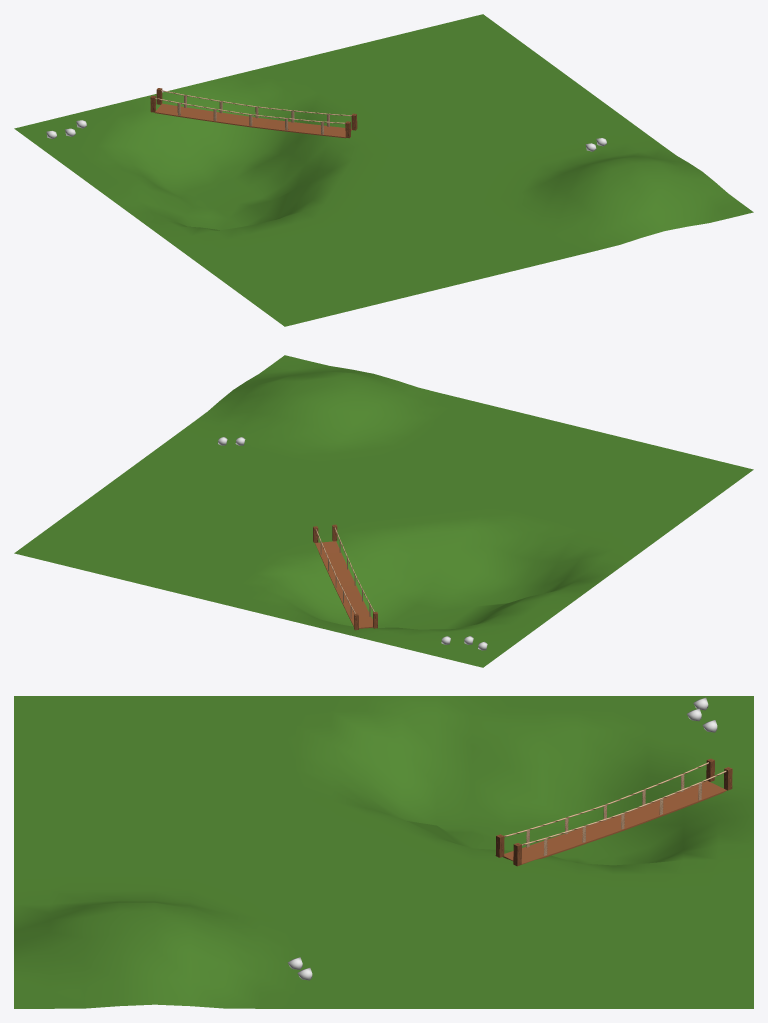
Rendered from start-park-terrain.fbx.
The picture shows the model from 3 angles, top to bottom: view 1: azimuth 30°, elevation 25°; view 2: azimuth 150°, elevation 25°; view 3: azimuth 270°, elevation 25°; orthographic projection. The views are drawn at different scales.
Visible parts, largest first — view 1: Plane.001, Floor; view 2: Plane.001, Floor; view 3: Plane.001, Floor.
Part boxes in pixels (x1=…): Plane.001: x1=14, y1=14, x2=753, y2=326; Floor: x1=155, y1=103, x2=351, y2=138; Plane.001: x1=14, y1=355, x2=753, y2=667; Floor: x1=315, y1=541, x2=373, y2=628; Plane.001: x1=14, y1=696, x2=753, y2=1008; Floor: x1=503, y1=780, x2=726, y2=864.
Bounding box in the file's own units: 10000 × 1409 × 10000.
